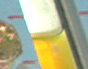border: (6, 14, 27, 20), (21, 59, 38, 65), (76, 10, 88, 16)
liquidlevel: (29, 27, 68, 42)
